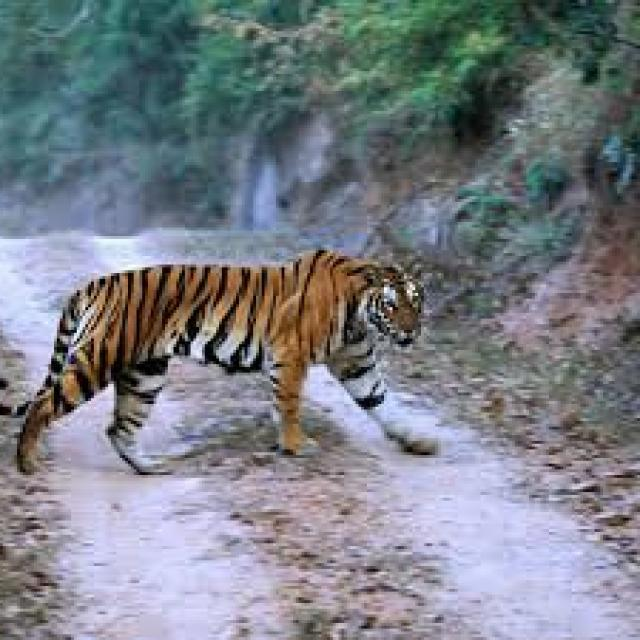tiger: (20, 250, 438, 472)
